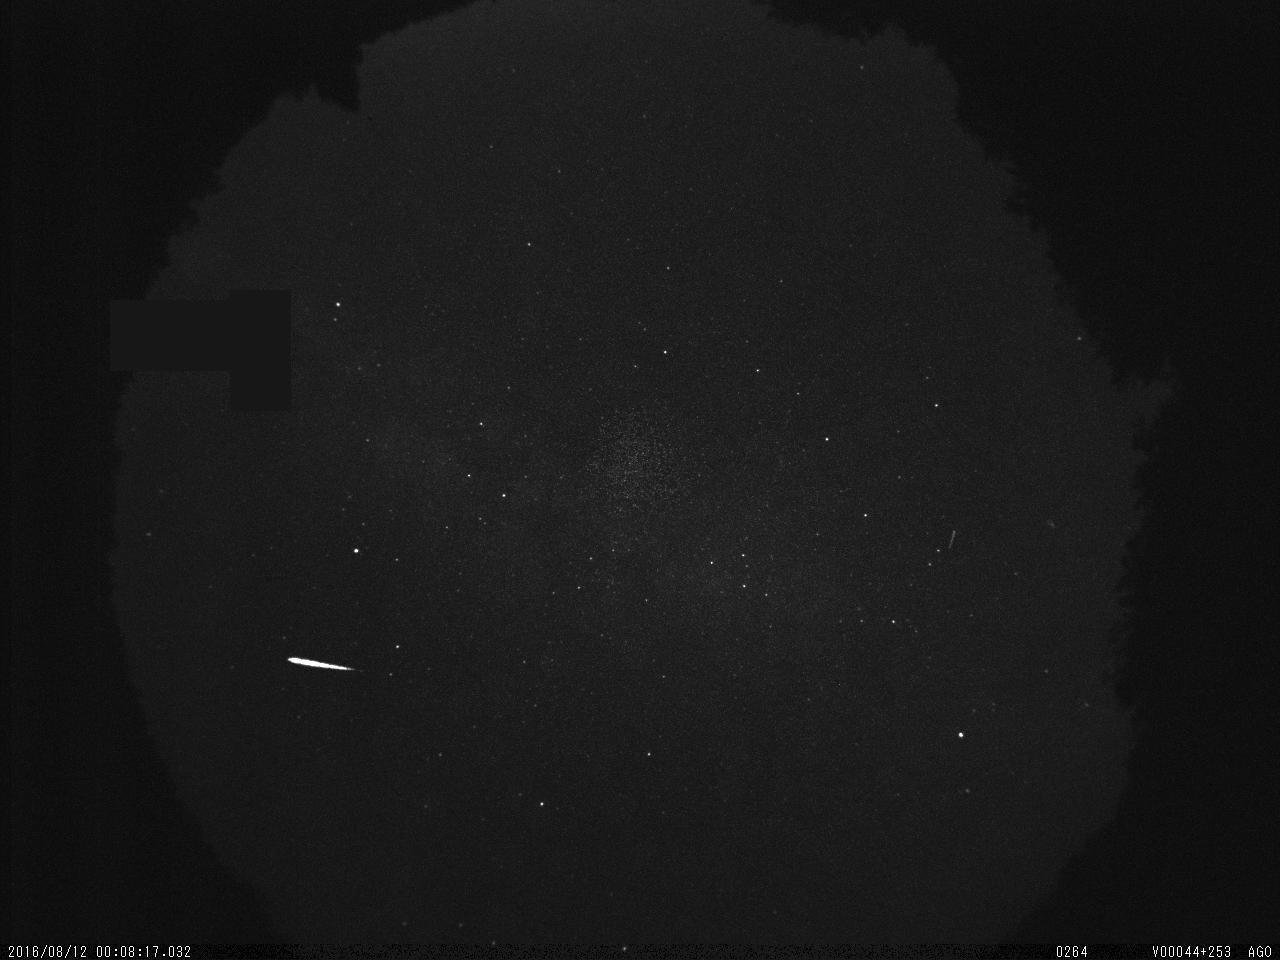Meteor: (282, 649, 359, 678)
